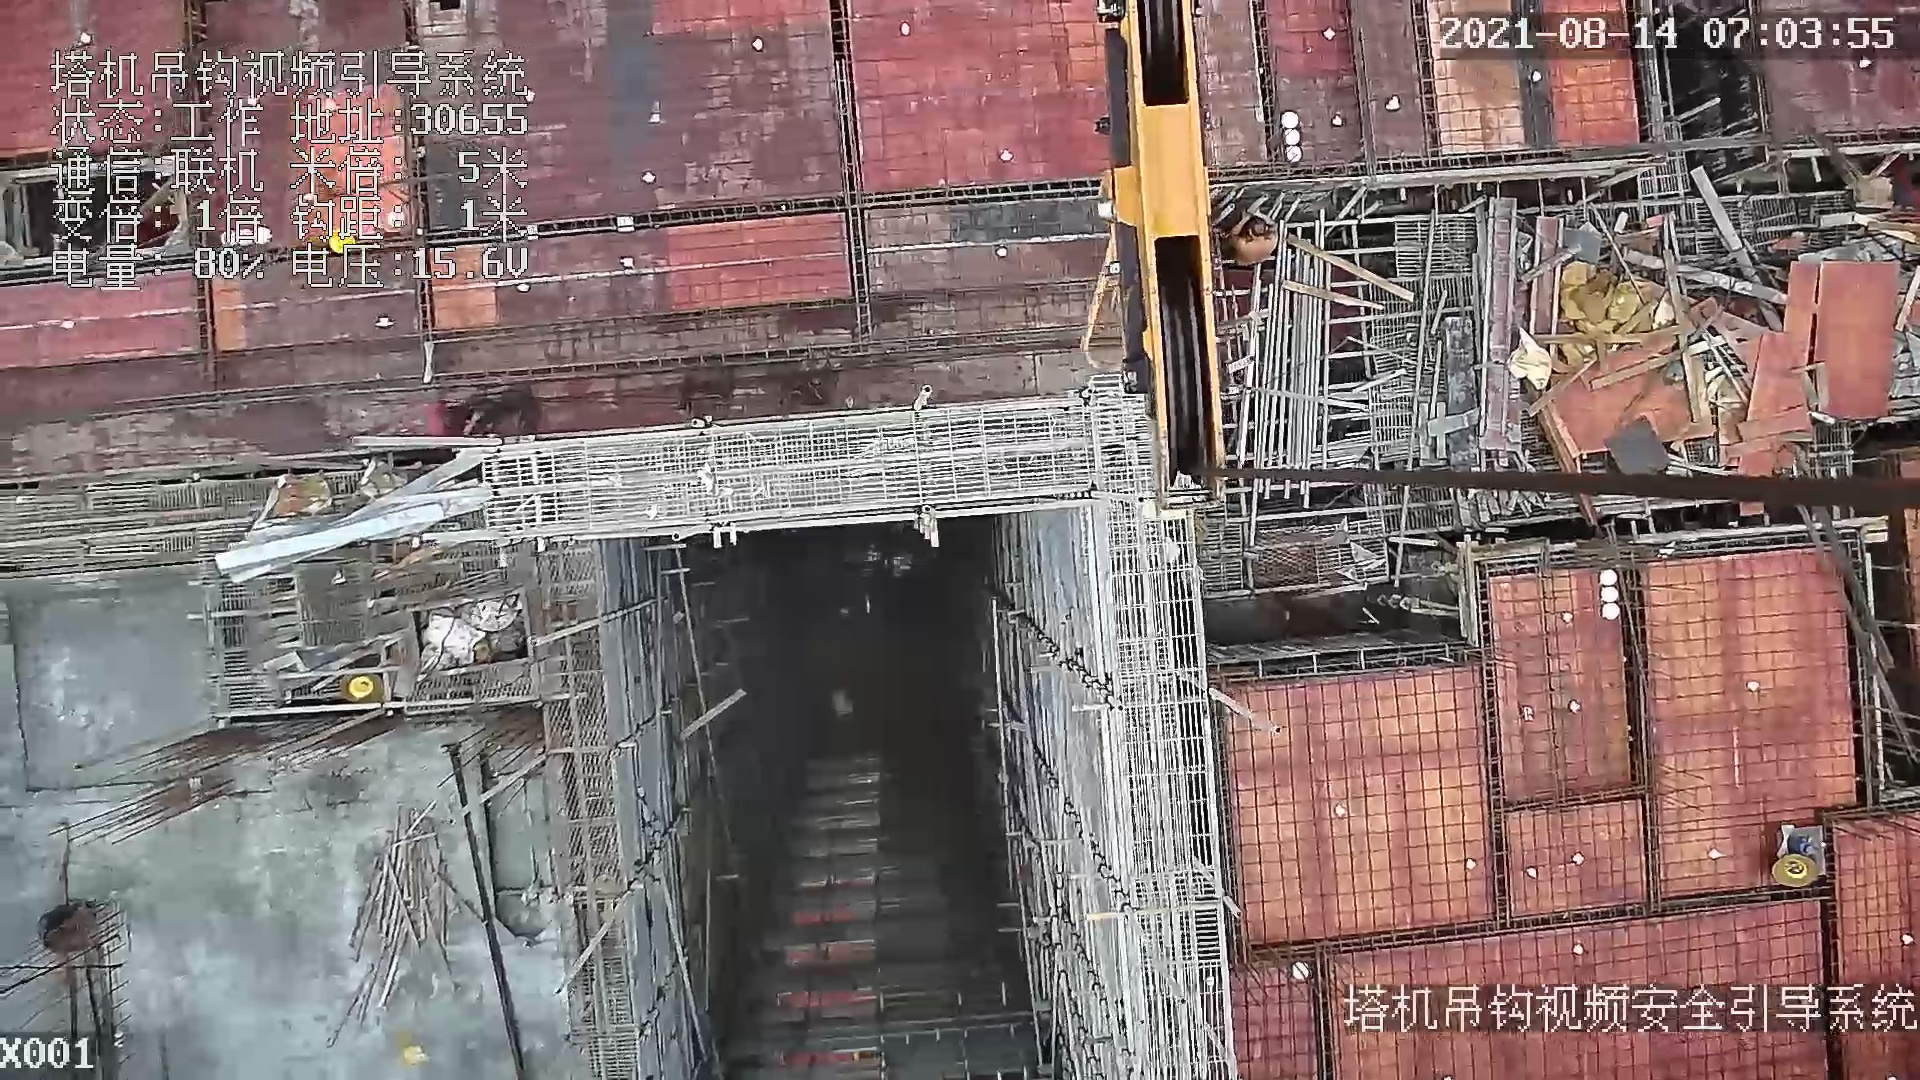hook: (1065, 1, 1231, 499)
person: (1229, 207, 1285, 271)
